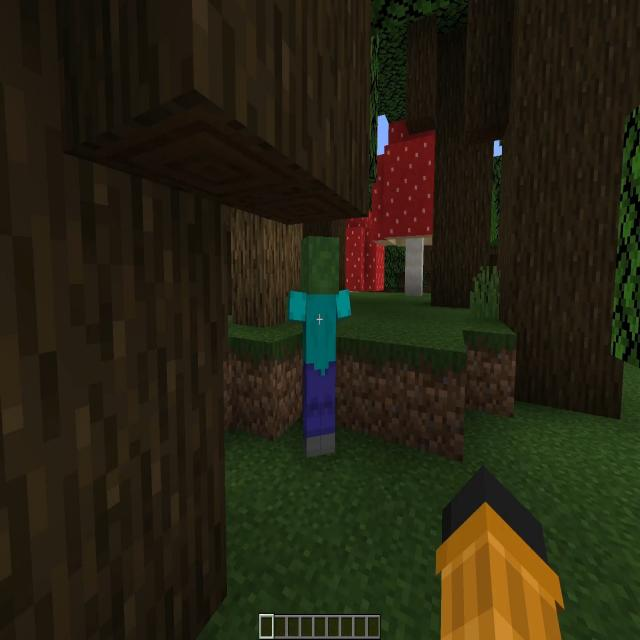Zombie: (291, 236, 349, 457)
